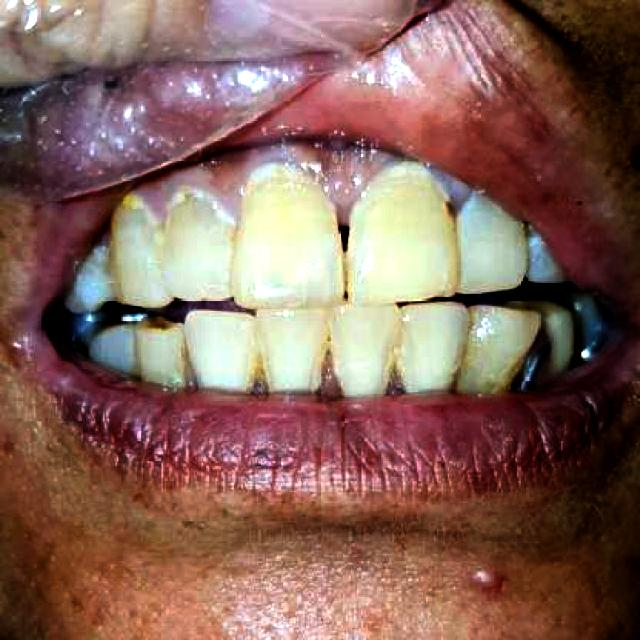Plaque: (127, 145, 483, 217)
